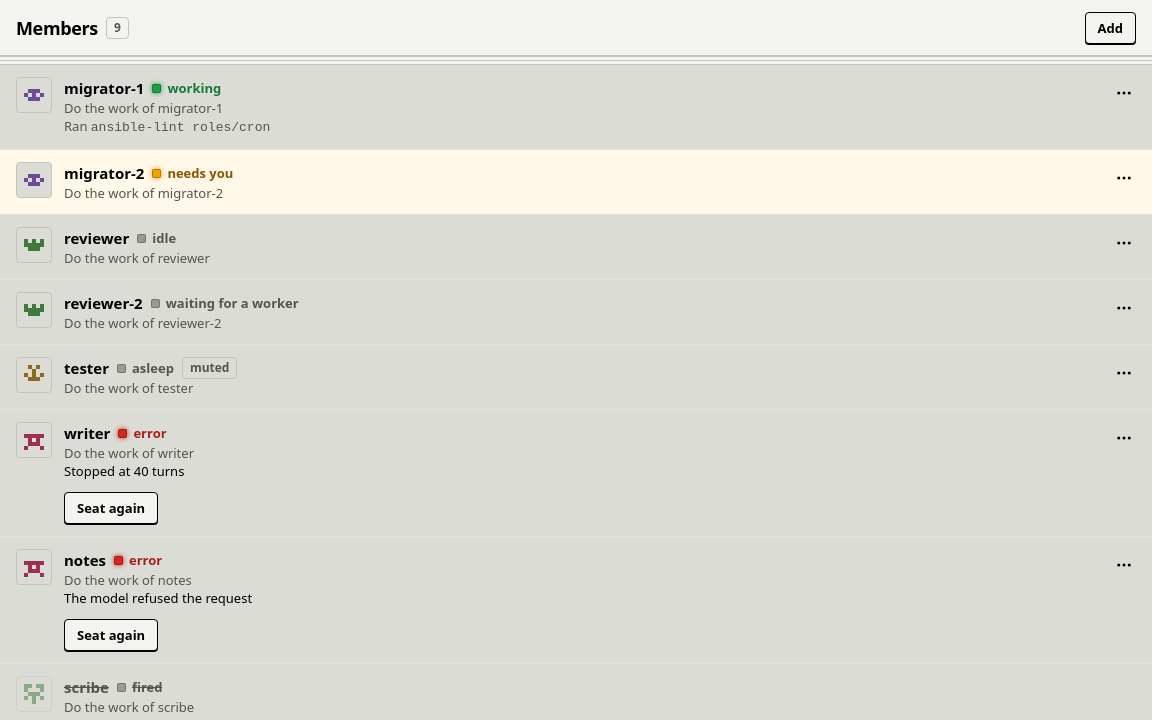
Test: the picker of Add › opens the full form in Advanced, with the reason of a bad handle
This screenshot has width=1152, height=720.
Step 1. Click the button "Add" → click(1110, 28), box [1085,12,1136,44]
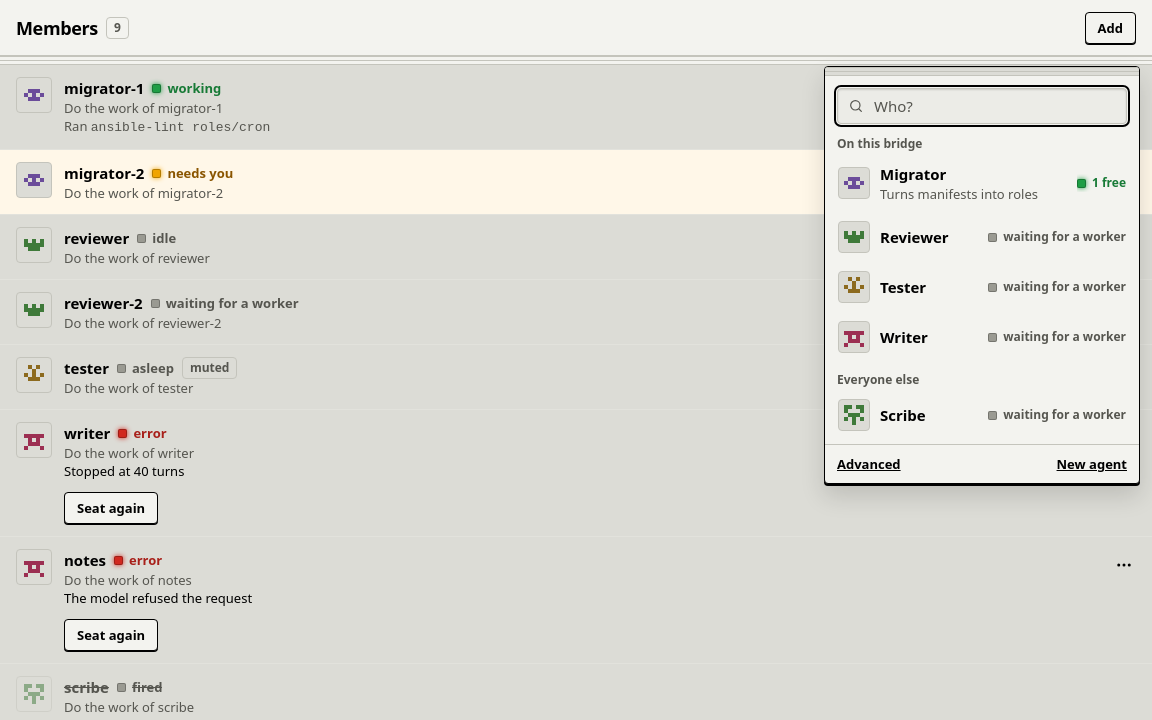
Step 2. Click the button "Advanced" → click(869, 464), box [837,453,901,475]
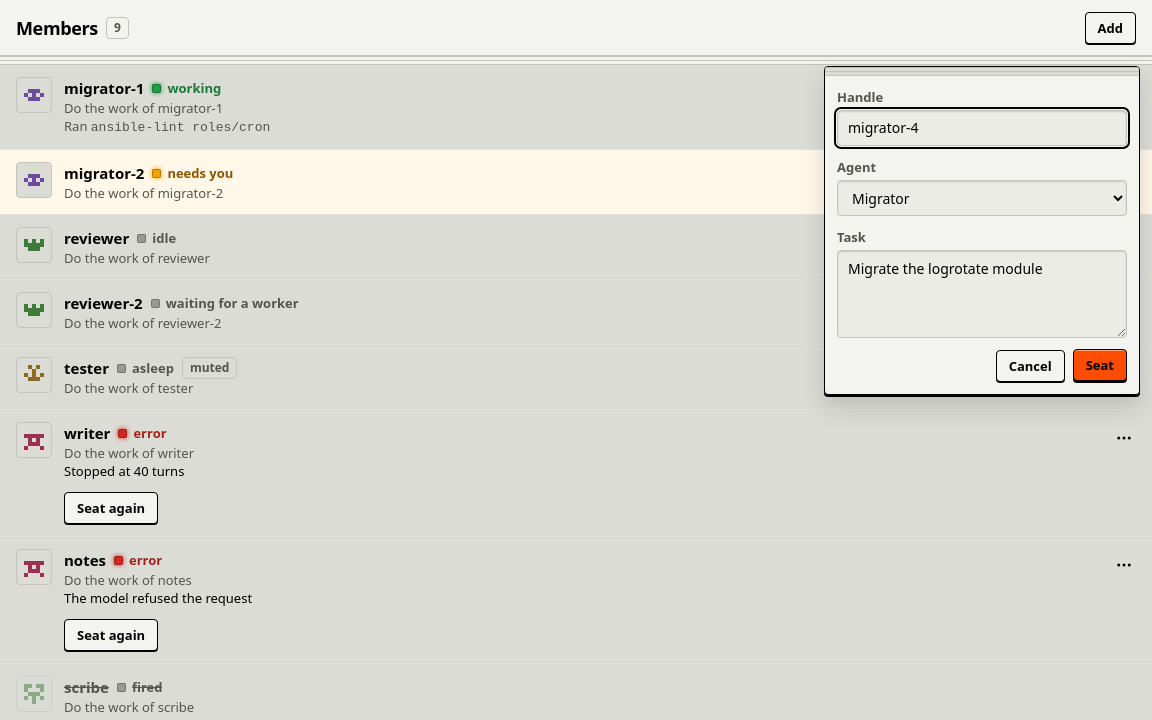
Expected: the field labelled "Handle" holds "migrator-4"
Expected: the text box labelled "Task" holds "Migrate the logrotate module", [837,250,1127,338]
Step 3. Replace the text in the field labelled "Handle" with "manager" → (982, 128), box [837,110,1127,146]
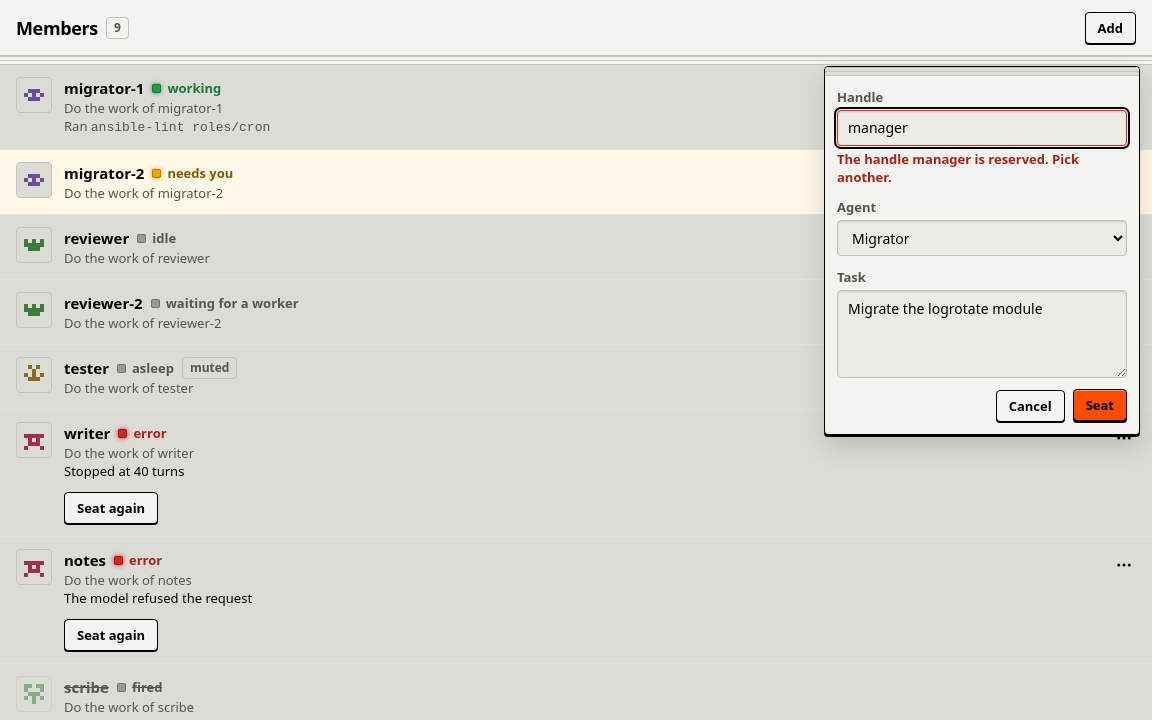
Expected: the message "The handle manager is reserved. Pick another." is shown, [837,150,1079,186]
Step 4. Replace the text in the field labelled "Handle The handle manager is reserved. Pick another." with "reviewer" → (982, 128), box [837,110,1127,146]
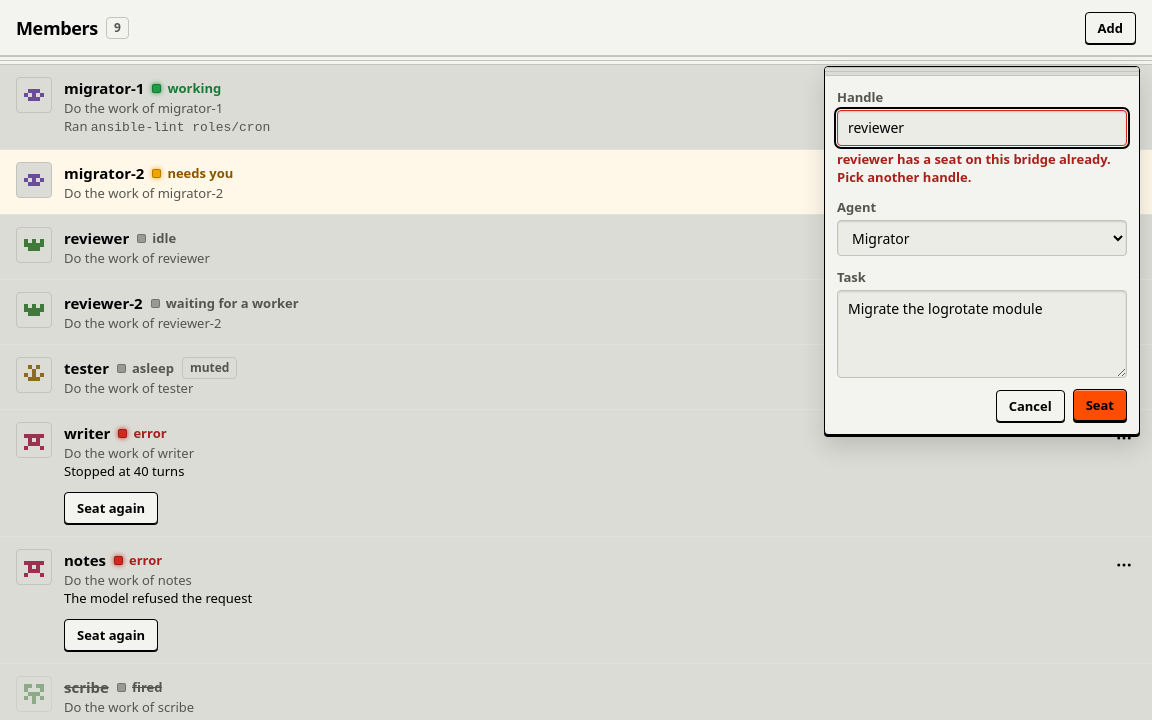
Expected: the message "reviewer has a seat on this bridge already. Pick another handle." is shown, [837,150,1127,186]
